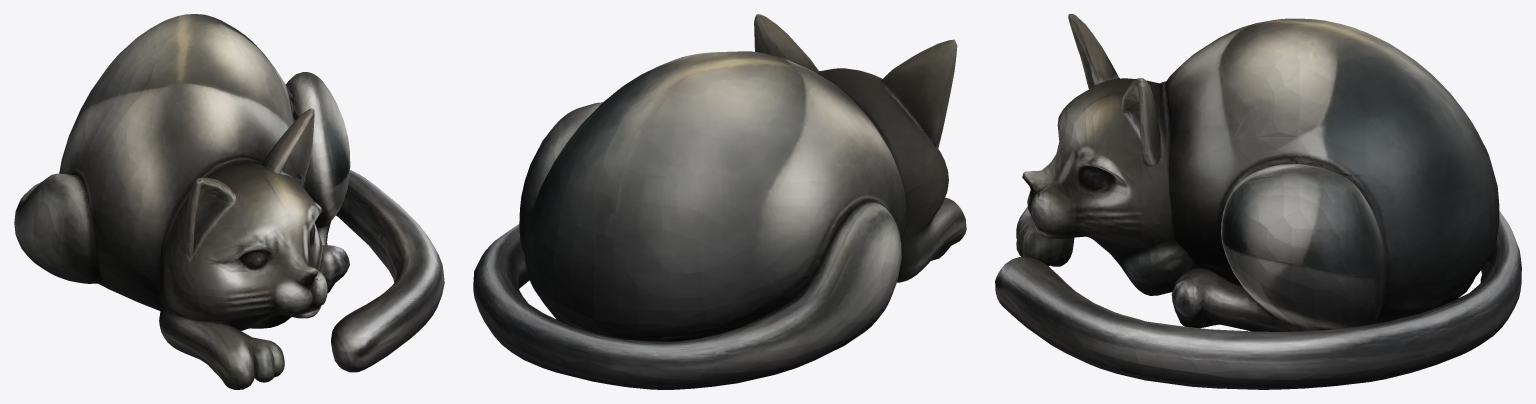
The model's file is curled-cat.glb.
The picture shows the model from 3 angles, left to right: view 1: azimuth 30°, elevation 25°; view 2: azimuth 150°, elevation 25°; view 3: azimuth 270°, elevation 25°; orthographic projection. The views are drawn at different scales.
Visible parts, largest first — view 1: world; view 2: world; view 3: world.
Boxes of the visible parts, x1,y1,x2,y2 form: world: (14,14,444,389); world: (473,14,966,389); world: (995,14,1521,389).
Bounding box in the file's own units: 0.8384 × 0.5798 × 0.9983.
1 material, 1 textured.
